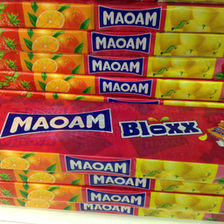candy: (1, 101, 222, 213), (1, 1, 219, 103)
